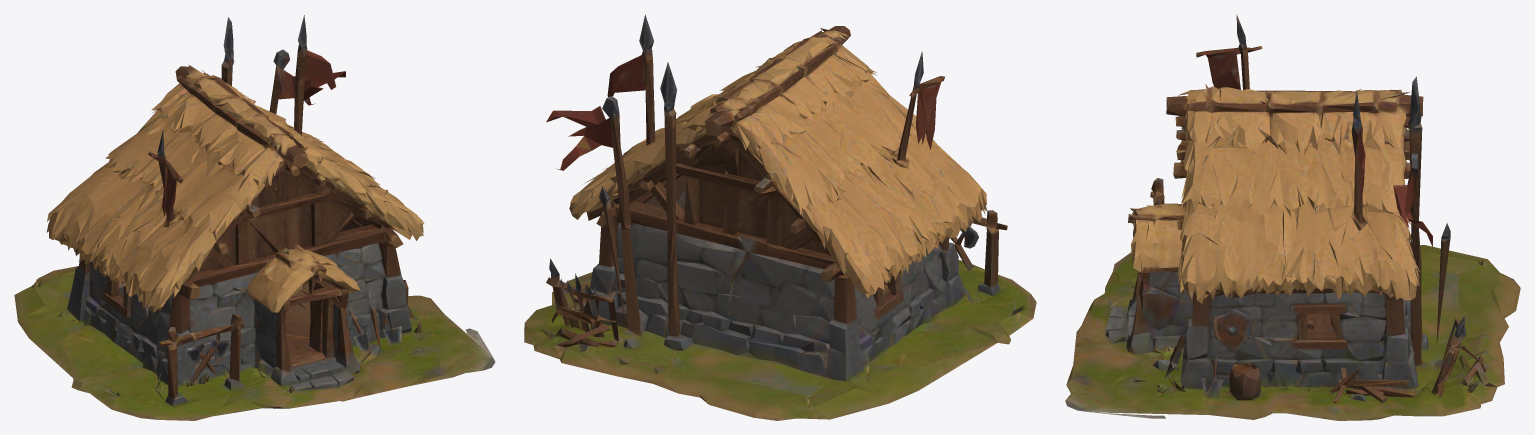
Rendered from barracks.glb.
3 views of the same model, side by side, from view 1: azimuth 30°, elevation 25°; view 2: azimuth 150°, elevation 25°; view 3: azimuth 270°, elevation 25° (orthographic). The views are drawn at different scales.
Size of the model in its own units: 1.87 by 1.34 by 1.9.
Materials: 1 (1 with a texture image).
